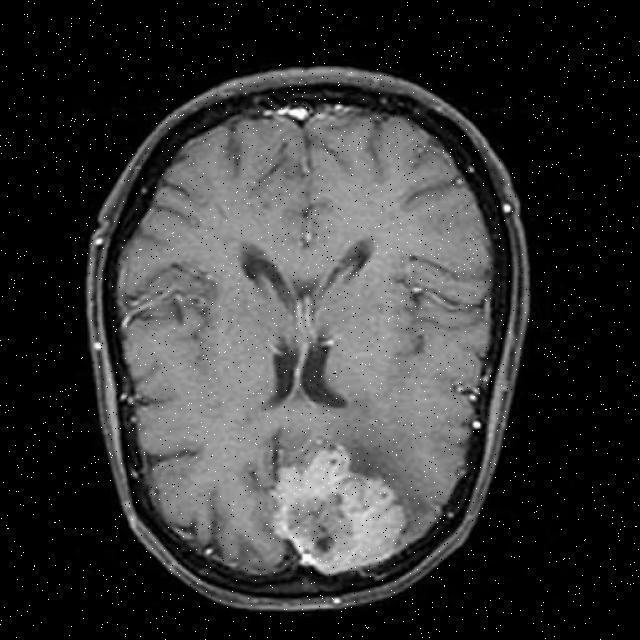Meningioma: (273, 448, 405, 573)
